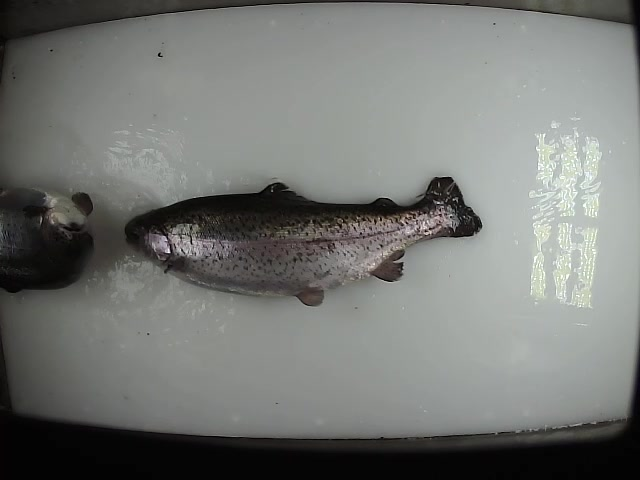Fish: (125, 176, 483, 305)
